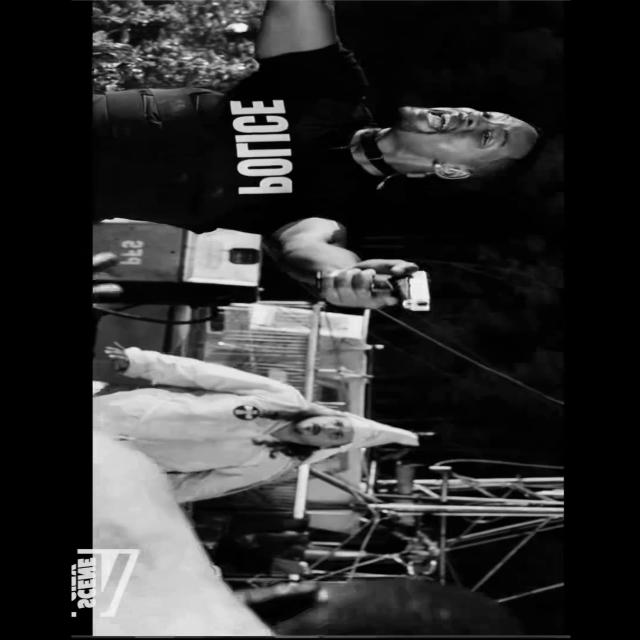weapons: (305, 250, 465, 320)
